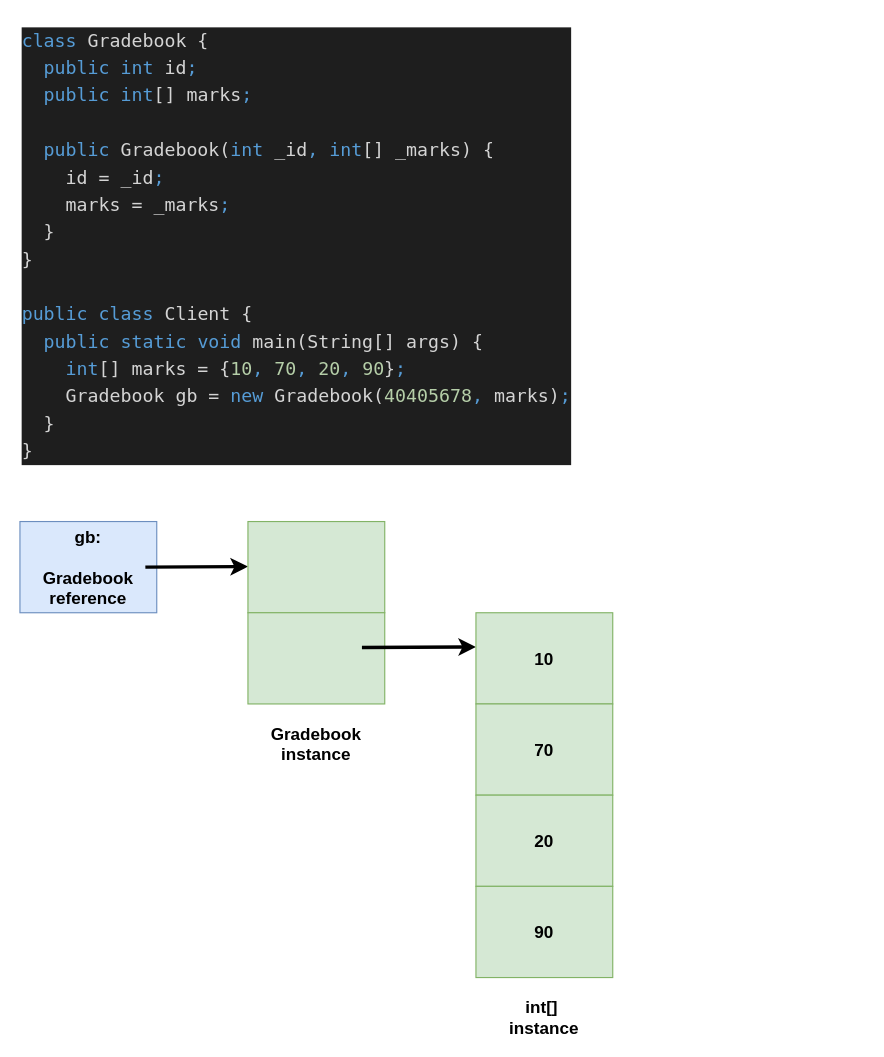
Some shapes in this 884 by 1057 pixel diagram are drawn without their labels. The box of each missing label's shape, as (x1, y1, x2, y2) in pixels:
id = 40405678: (247, 520, 385, 613)
marks: int[] reference: (247, 612, 385, 704)
